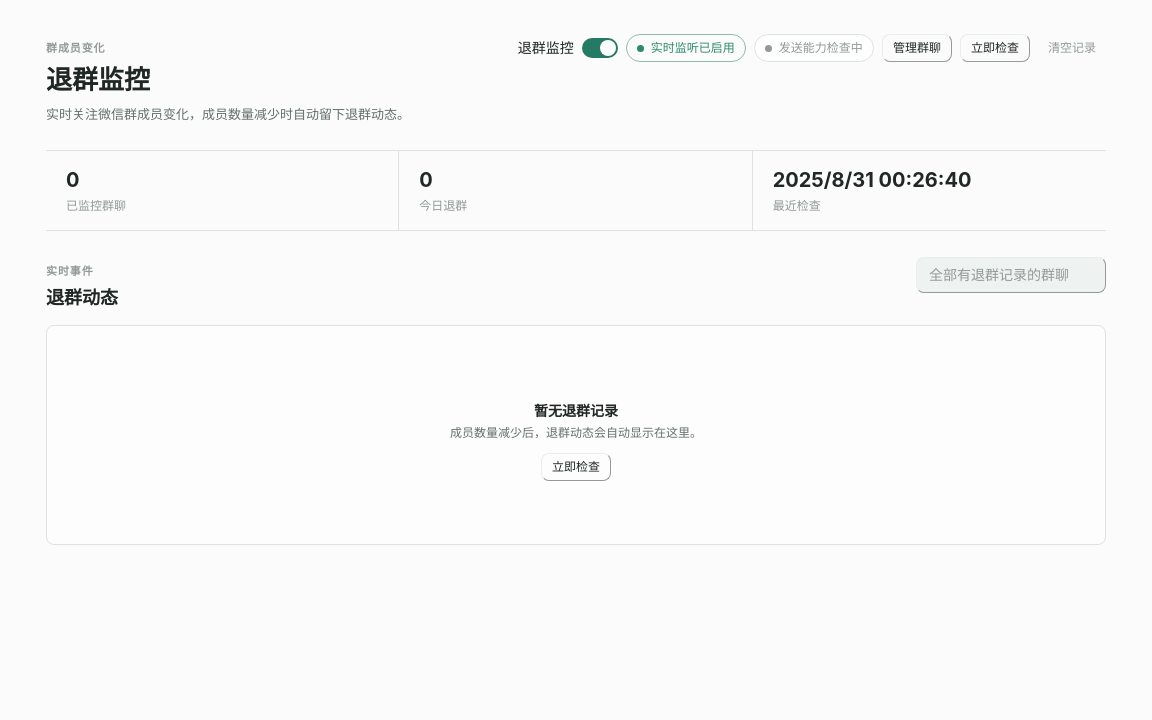
GroupExitMonitorWorkspace › leaves every monitoring checkbox off for a new installation
Click the button "管理群聊" at (917, 48), box [882,34,952,62]
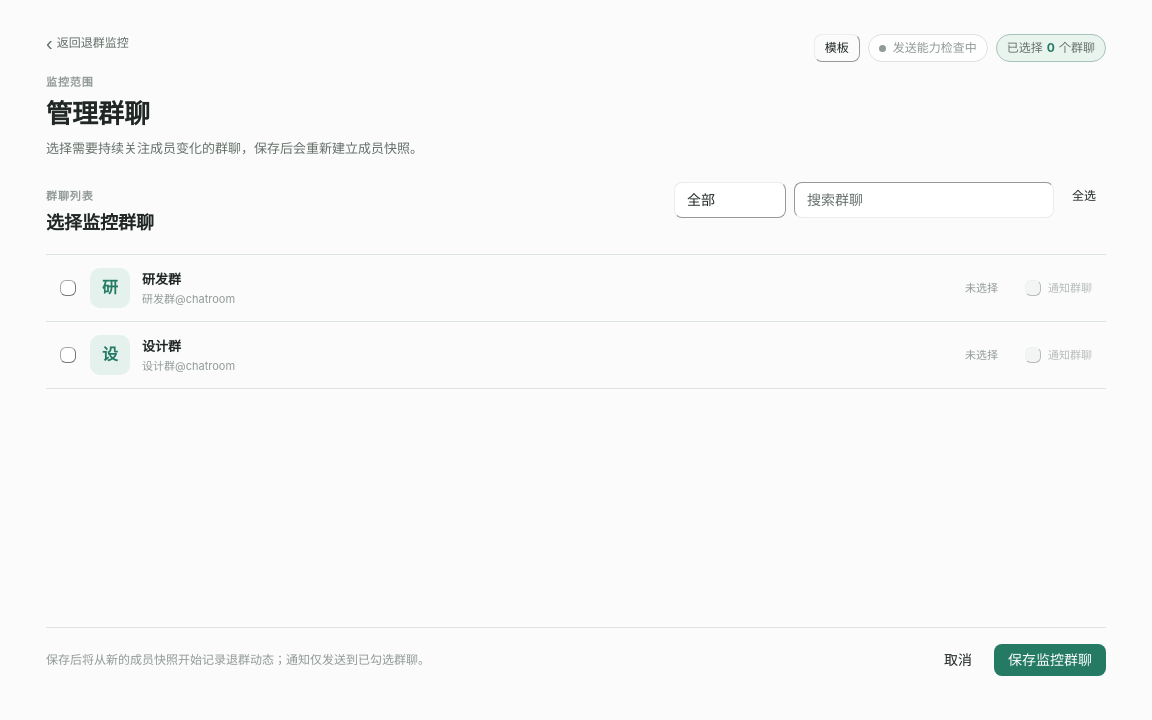
Expected: the checkbox named "监控研发群" is not checked, [60,280,76,296]
Expected: the checkbox named "监控设计群" is not checked, [60,347,76,363]
